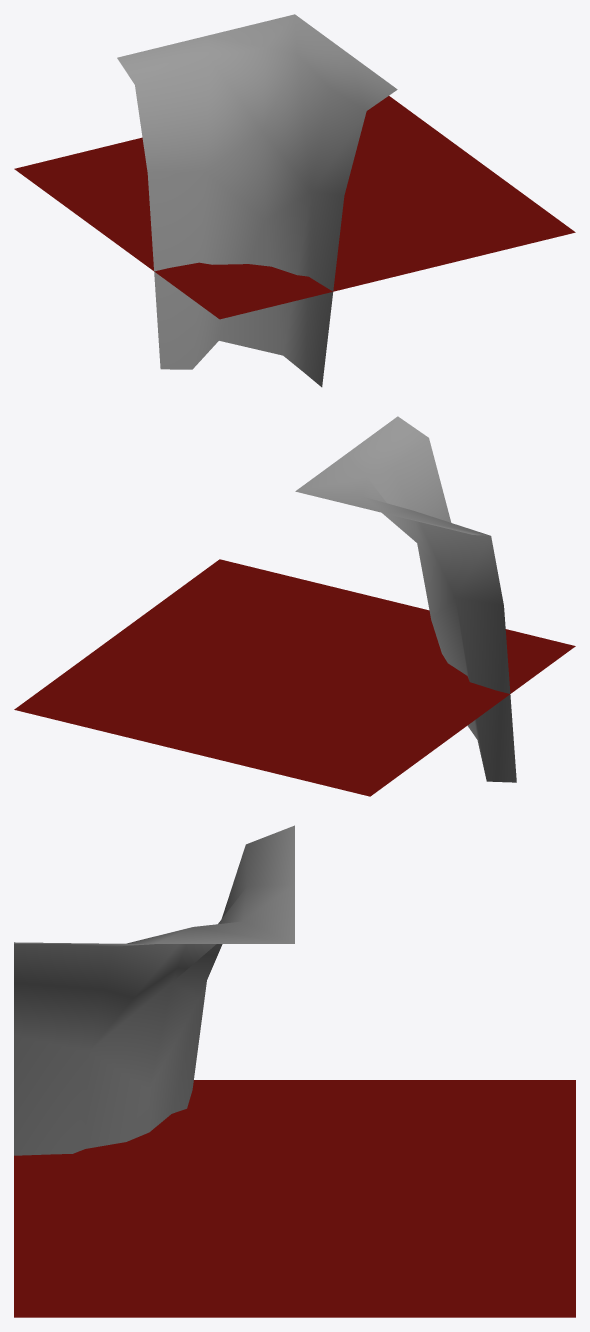
File: wall_inner_1_1x.FBX
3 views of the same model, one above another, from view 1: azimuth 30°, elevation 25°; view 2: azimuth 150°, elevation 25°; view 3: azimuth 270°, elevation 25° (orthographic). The views are drawn at different scales.
Visible parts, largest first — view 1: Box002, Plane001; view 2: Plane001, Box002; view 3: Plane001, Box002.
Part boxes in pixels (x1,y1,x2,y2): Box002: (117,14,397,387); Plane001: (14,96,575,319); Plane001: (14,559,575,796); Box002: (295,416,516,782); Plane001: (14,1080,575,1317); Box002: (14,825,294,1155).
Bounding box in the file's own units: 80 × 61.54 × 80.
